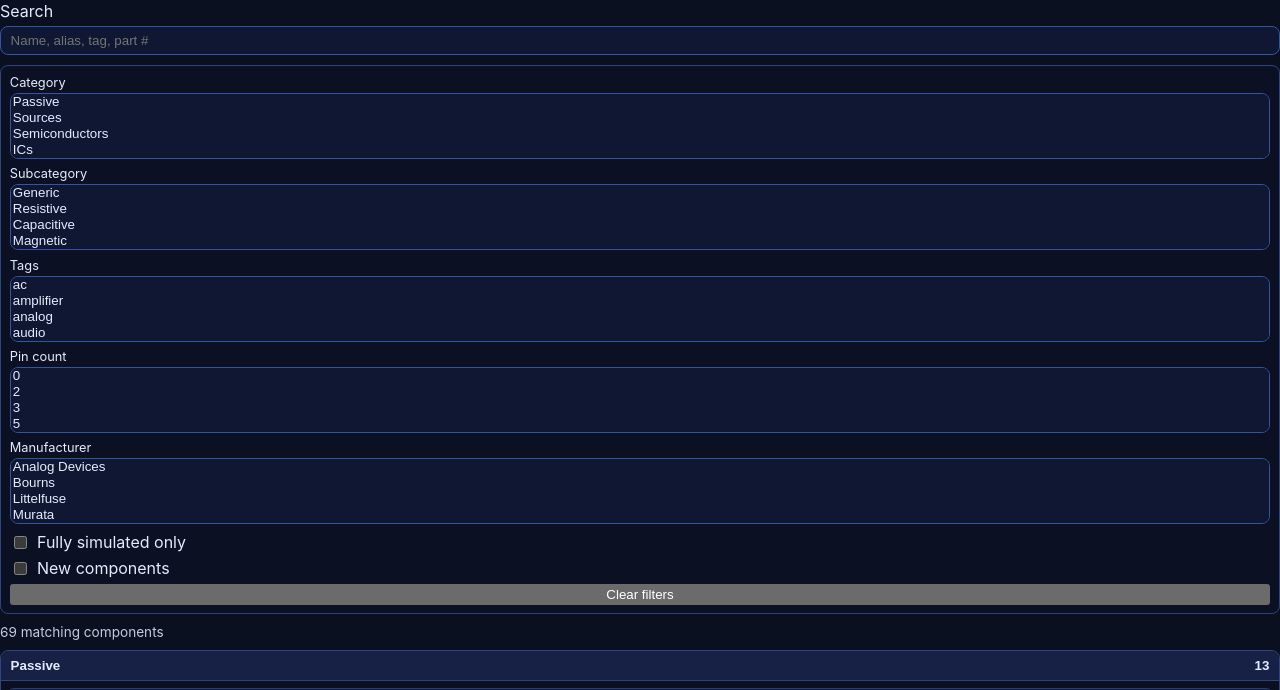
Test case: ComponentLibrarySidebar › finds semiconductor families by common aliases
The width and height of the screenshot is (1280, 690).
Type "zener" into the search field with placeholder "Name, alias, tag, part #" at x=640, y=40, box [0,26,1279,55]
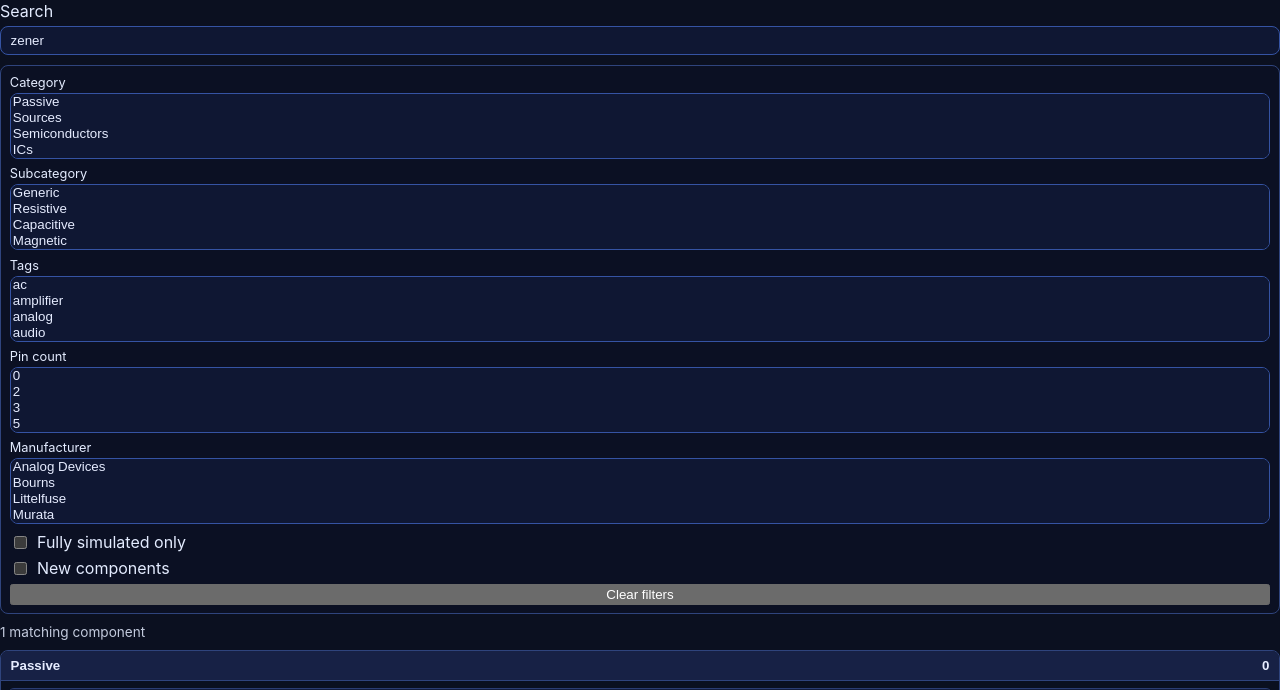
Replace the text in the search field with placeholder "Name, alias, tag, part #" with "pmos" at x=640, y=40, box [0,26,1279,55]
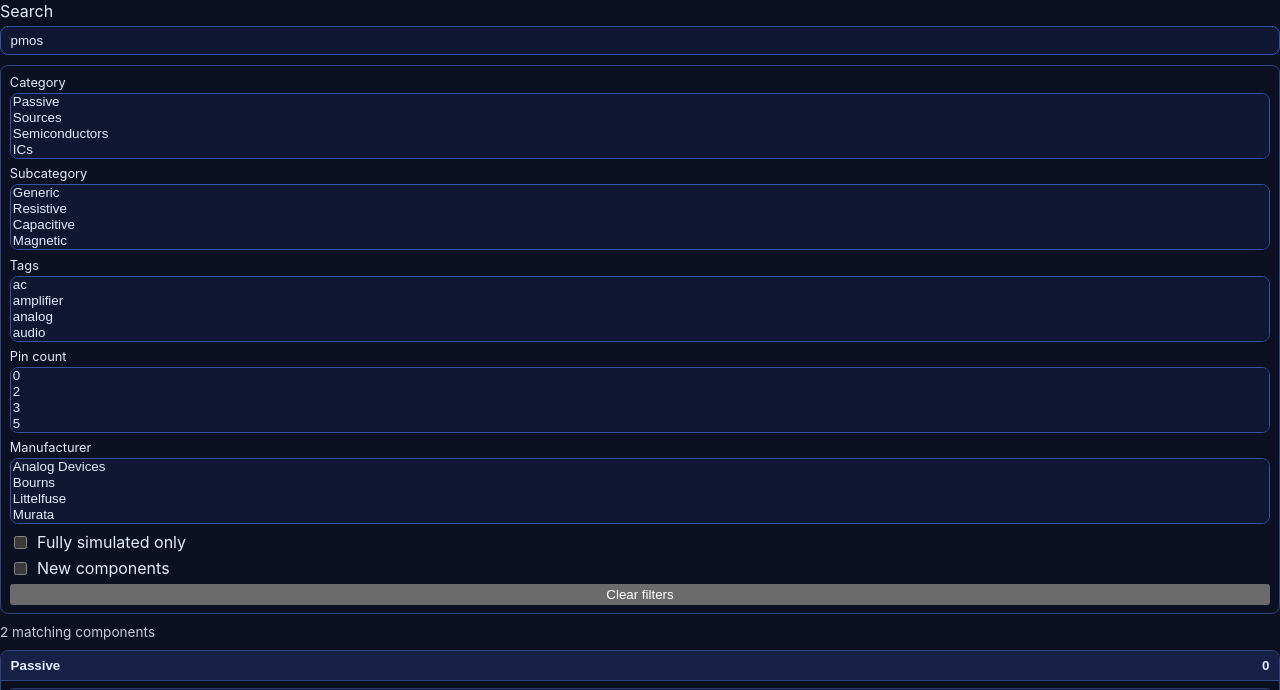
Replace the text in the search field with placeholder "Name, alias, tag, part #" with "led" at x=640, y=40, box [0,26,1279,55]
(page scrolled)
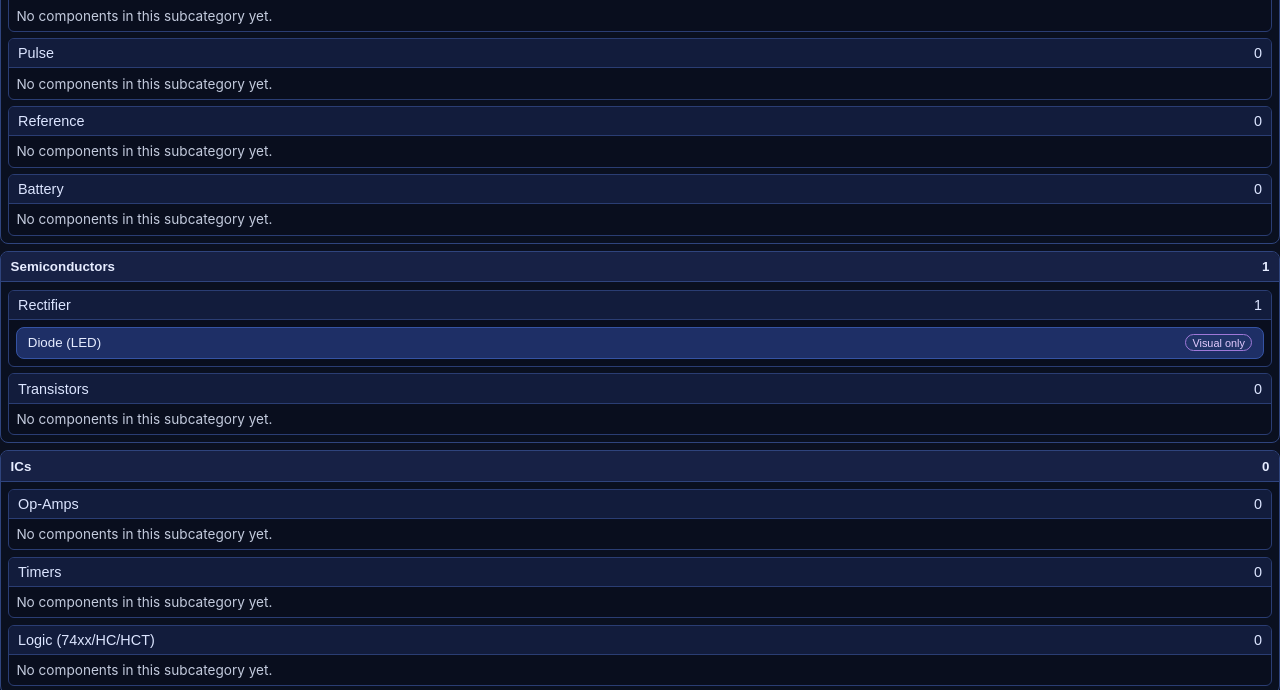
Result: the text "Diode (LED)" is shown at [28,335,101,350]
